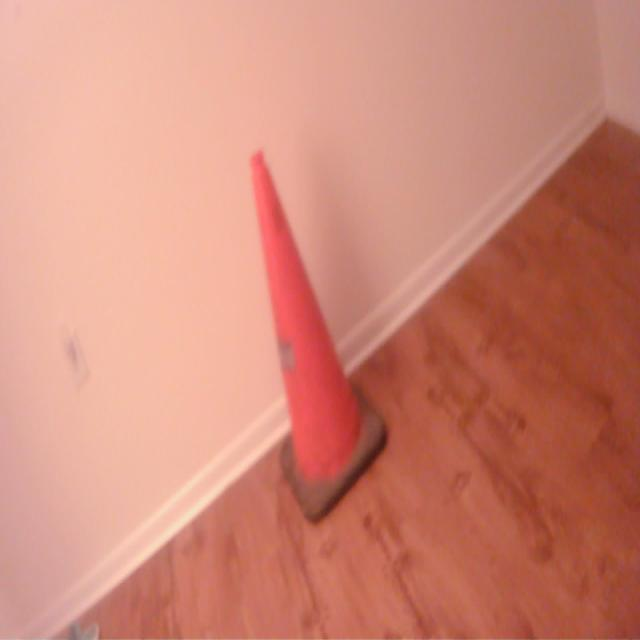traffic cone: (249, 146, 394, 532)
